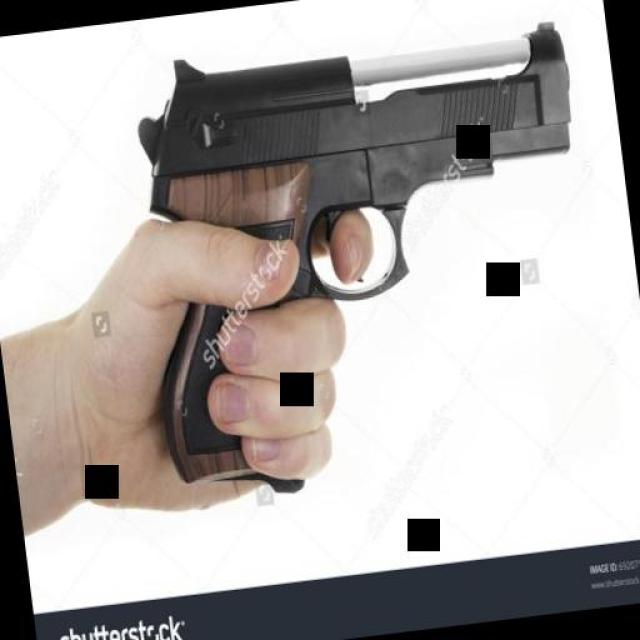gun: (115, 9, 614, 508)
